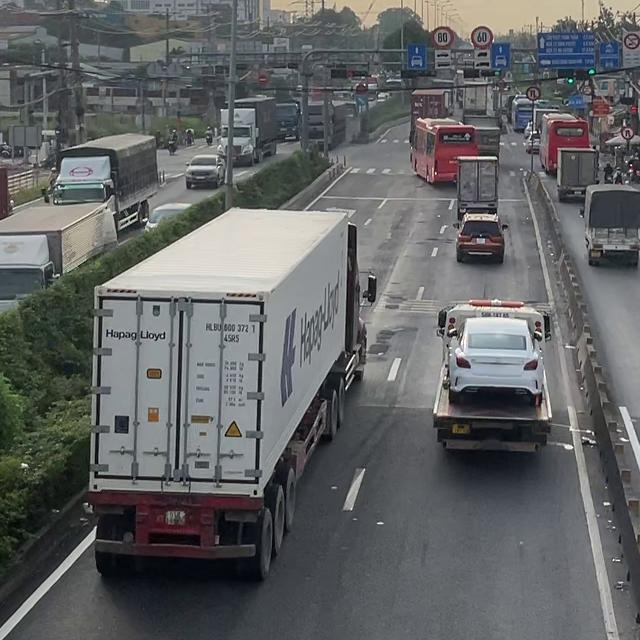bus: (409, 117, 478, 184), (539, 112, 590, 174), (511, 95, 540, 131)
car: (444, 316, 544, 407), (454, 212, 507, 263), (143, 202, 192, 233), (184, 154, 224, 189), (523, 132, 540, 153)
motorcycle: (167, 140, 177, 155), (205, 131, 212, 145)
truck: (84, 205, 376, 580), (431, 298, 552, 455), (0, 202, 118, 318), (47, 132, 159, 232), (579, 183, 639, 266), (218, 95, 277, 166), (454, 154, 499, 223), (408, 88, 454, 145), (555, 146, 599, 201), (463, 115, 500, 155), (275, 101, 300, 140), (462, 82, 489, 115)
